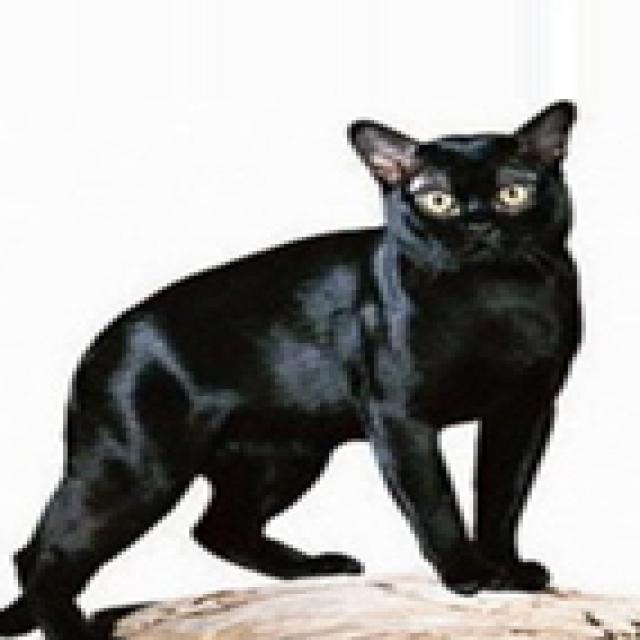Bombay: (0, 92, 586, 640)
